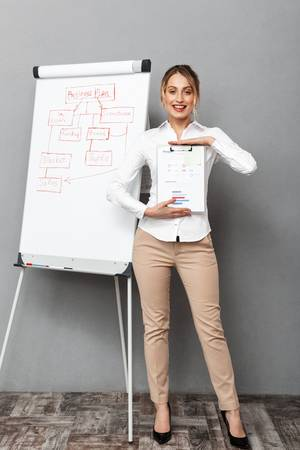C_shirt: (110, 125, 257, 241)
